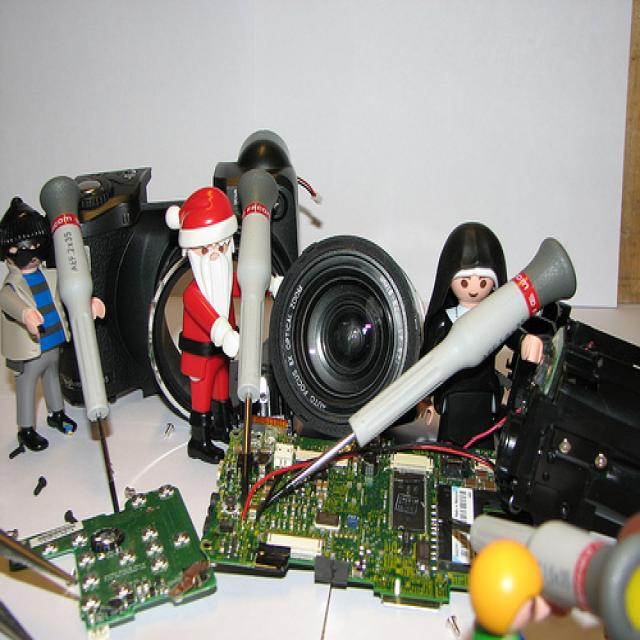Screwdriver: (259, 233, 583, 514), (41, 167, 122, 536), (225, 165, 284, 523)
